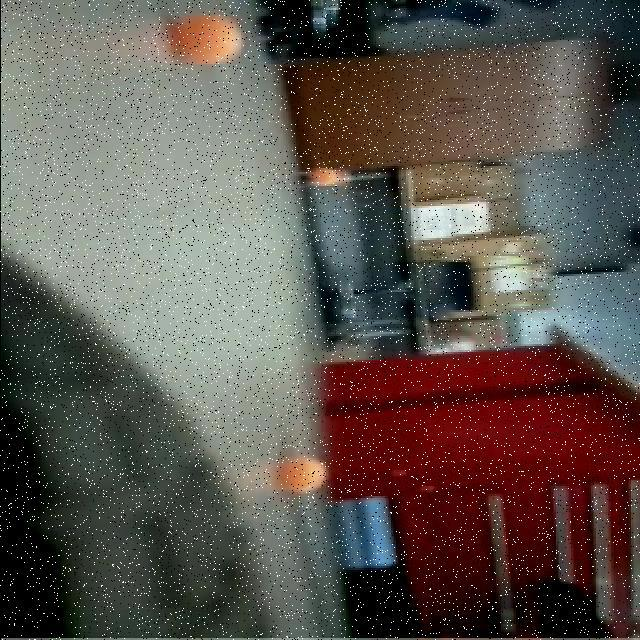ping-pong-ball: (164, 8, 252, 66), (272, 454, 327, 498), (305, 165, 346, 185)
